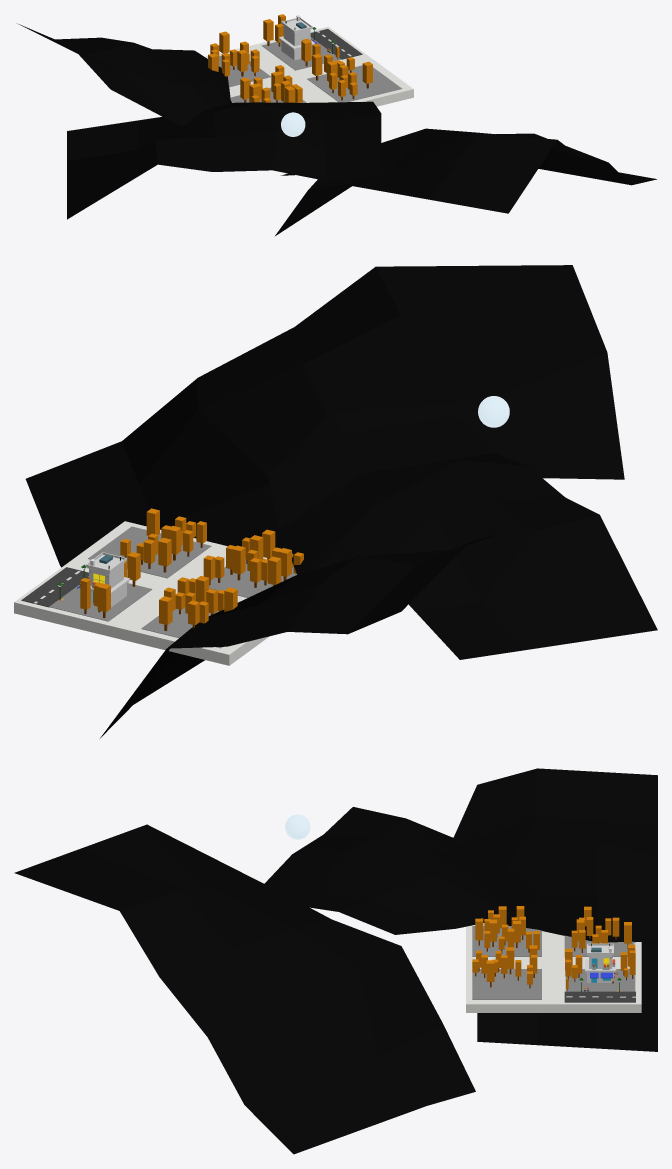
The model's file is casaDonuts.glb.
The picture shows the model from 3 angles, top to bottom: view 1: azimuth 30°, elevation 25°; view 2: azimuth 150°, elevation 25°; view 3: azimuth 270°, elevation 25°; orthographic projection. The views are drawn at different scales.
Visible parts, largest first — view 1: Plano.003, Plano.005, Plano.004, Plano.002, Cube.002, Cubo, Cubo.031, Cube, Cube.004, Esfera; view 2: Plano.005, Plano.003, Plano.004, Plano.002, Cube.002, Cube, Cubo, Cubo.031, Cube.003, Esfera, Cube.004; view 3: Plano.005, Plano.004, Plano.003, Plano.002, Cube.002, Cube, Cubo, Cube.003, Cubo.031.
Boxes of the visible parts, <box> form: Plano.003: <box>67,101,381,219</box>; Plano.005: <box>275,128,656,235</box>; Plano.004: <box>17,23,231,126</box>; Plano.002: <box>205,26,413,106</box>; Cube.002: <box>307,65,401,102</box>; Cubo: <box>279,17,315,60</box>; Cubo.031: <box>310,29,362,59</box>; Cube: <box>261,37,340,70</box>; Cube.004: <box>219,54,270,87</box>; Esfera: <box>281,112,305,136</box>; Plano.005: <box>25,265,624,567</box>; Plano.003: <box>267,416,657,659</box>; Plano.004: <box>100,533,500,738</box>; Plano.002: <box>14,521,293,665</box>; Cube.002: <box>88,526,211,578</box>; Cube: <box>49,583,152,621</box>; Cubo: <box>85,552,130,607</box>; Cubo.031: <box>21,567,88,607</box>; Cube.003: <box>209,559,296,597</box>; Esfera: <box>478,396,509,427</box>; Cube.004: <box>141,607,222,648</box>; Plano.005: <box>14,824,475,1154</box>; Plano.004: <box>446,768,657,1051</box>; Plano.003: <box>238,807,515,934</box>; Plano.002: <box>466,923,641,1012</box>; Cube.002: <box>472,969,541,999</box>; Cube: <box>565,969,635,991</box>; Cubo: <box>585,943,616,982</box>; Cube.003: <box>472,926,541,956</box>; Cubo.031: <box>564,991,635,1002</box>.
Size of the model in its own units: 516 by 153 by 519.
